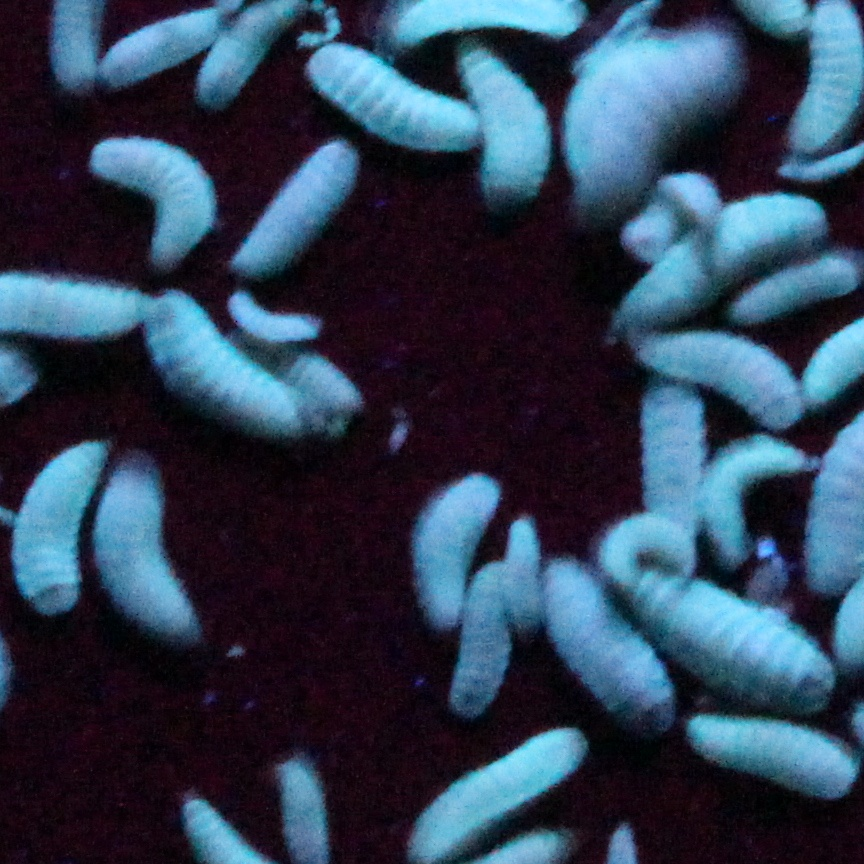larve: (598, 528, 828, 708), (603, 183, 826, 331), (573, 27, 726, 181), (317, 23, 478, 157), (534, 556, 668, 713), (620, 317, 808, 425), (149, 290, 295, 425), (231, 128, 370, 268), (681, 420, 808, 553), (8, 437, 102, 598), (102, 120, 207, 263), (101, 462, 180, 642), (686, 708, 848, 792), (466, 40, 542, 208), (625, 384, 699, 541), (450, 571, 517, 717), (428, 473, 491, 620), (592, 505, 706, 579), (223, 282, 322, 344), (494, 514, 544, 619)
